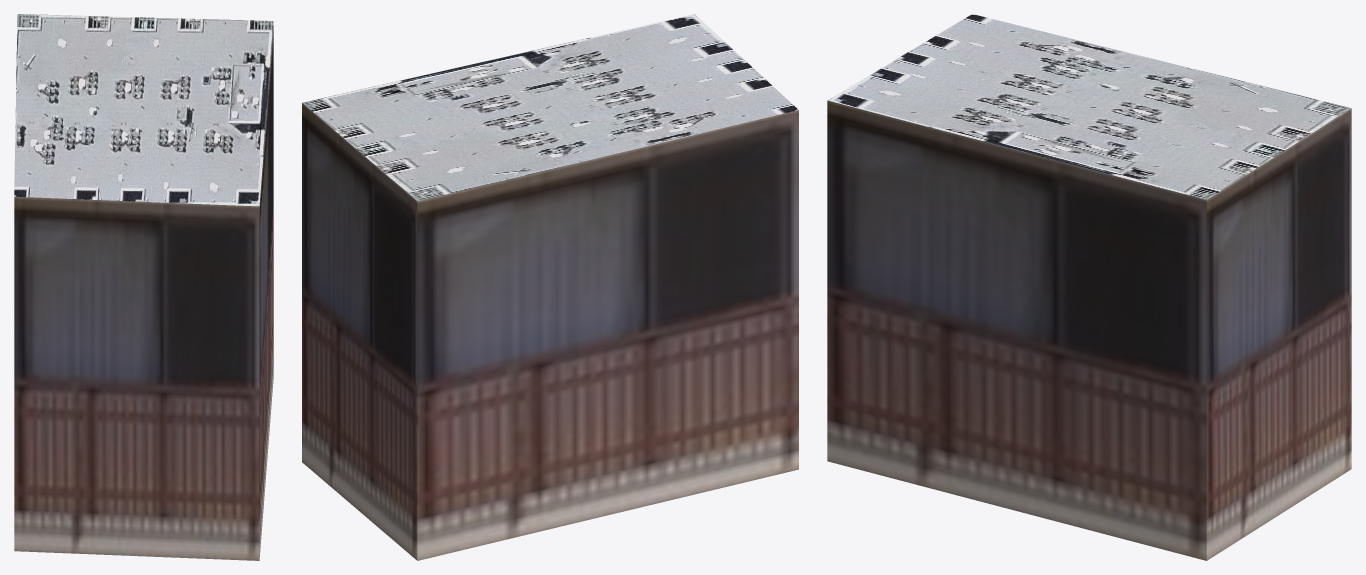
Rendered from ResTex__2404.fbx.
3 renders of one model, left to right at view 1: azimuth 30°, elevation 25°; view 2: azimuth 150°, elevation 25°; view 3: azimuth 270°, elevation 25°, orthographic.
Visible parts, largest first — view 1: CityEngineMaterial_6_m, CityEngineMaterial_2_m; view 2: CityEngineMaterial_6_m, CityEngineMaterial_2_m; view 3: CityEngineMaterial_6_m, CityEngineMaterial_2_m.
Boxes of the visible parts, left/top/right/bottom form: CityEngineMaterial_6_m: left=14, top=25, right=273, bottom=560; CityEngineMaterial_2_m: left=14, top=14, right=273, bottom=206; CityEngineMaterial_6_m: left=302, top=103, right=798, bottom=560; CityEngineMaterial_2_m: left=302, top=14, right=798, bottom=201; CityEngineMaterial_6_m: left=827, top=100, right=1351, bottom=560; CityEngineMaterial_2_m: left=827, top=14, right=1351, bottom=199.
Size of the model in its own units: 3.32 by 3 by 3.95.
2 materials, 2 textured.
